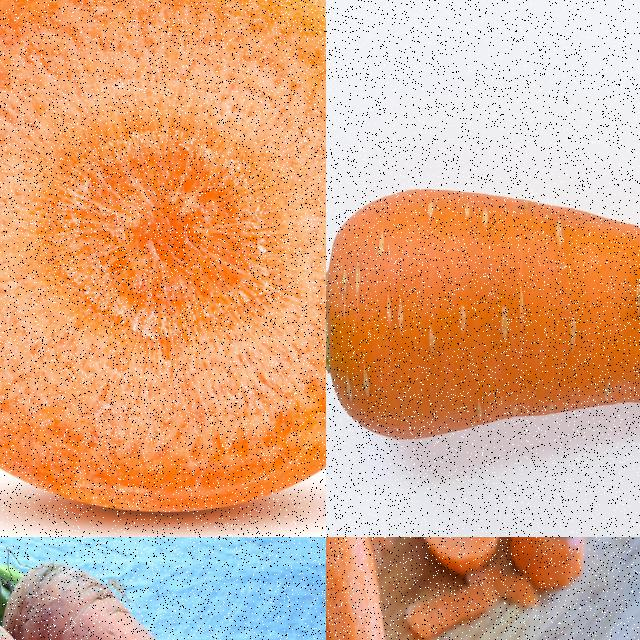carrot: (0, 0, 325, 536), (326, 177, 639, 468), (0, 561, 325, 639), (0, 607, 294, 639), (326, 537, 402, 639)
